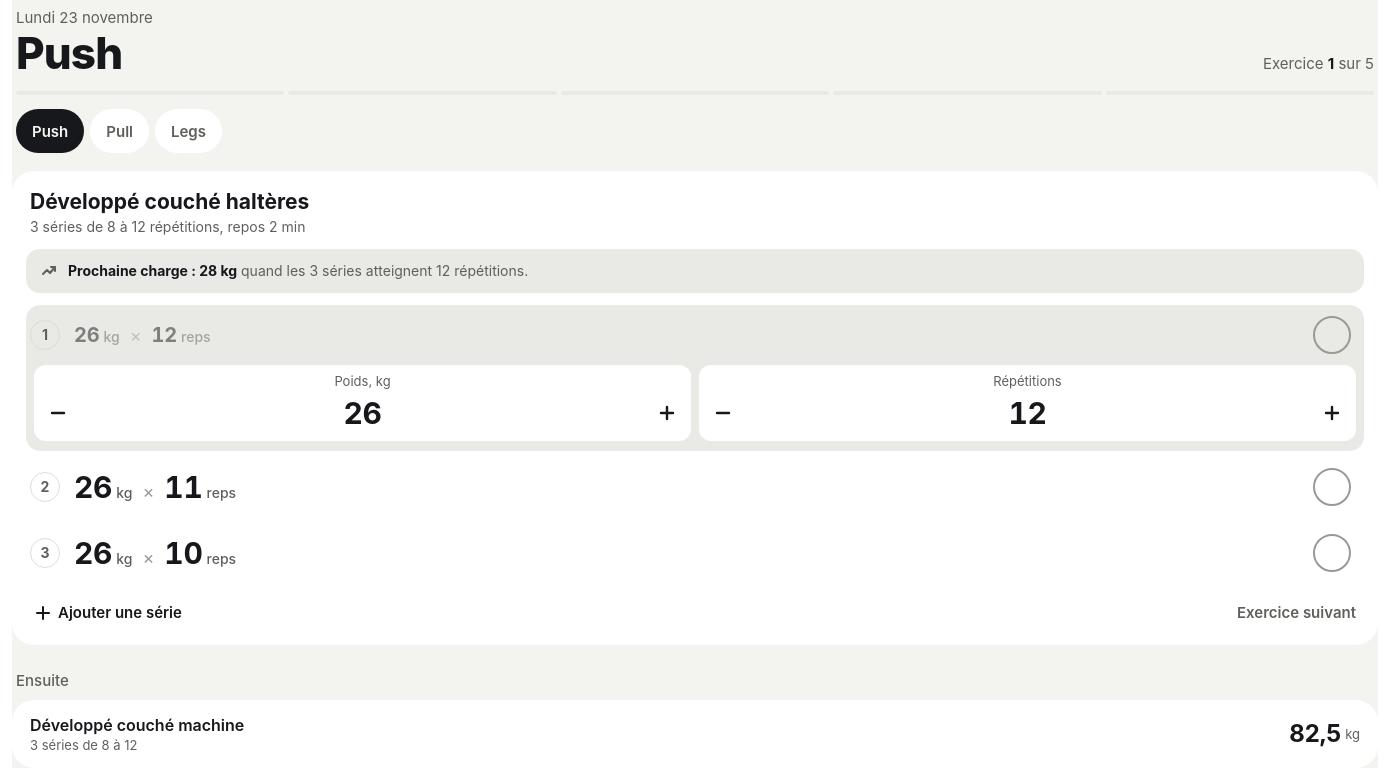
Test: SessionPage › un échec d’enregistrement affiche un message persistant et resynchronise depuis la base
Click the button named "Valider la série 1" at {"x": 1332, "y": 335}, box [1306, 309, 1358, 361]
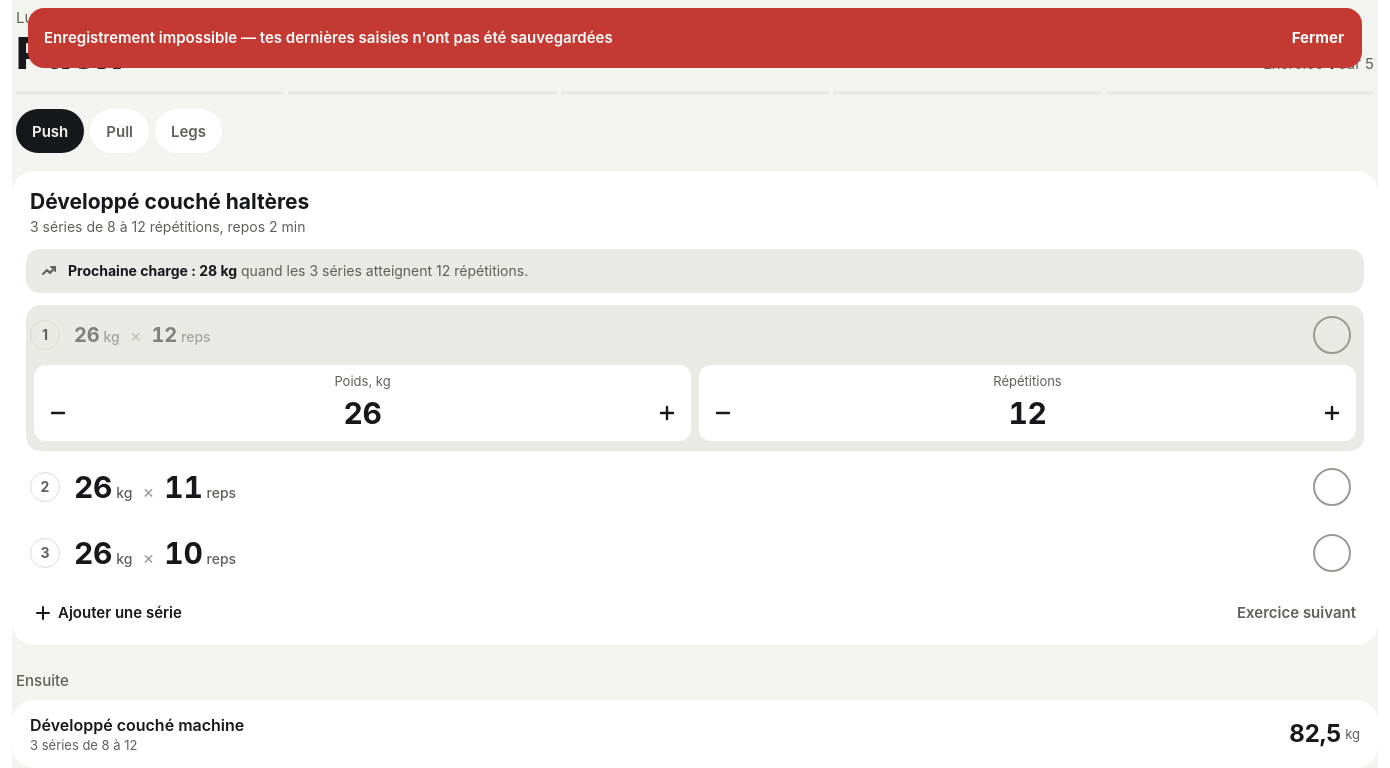
Check: the number of buttons "26 kg × 12 reps" is 3, box [64, 307, 1302, 363]; [64, 459, 1302, 515]; [64, 525, 1302, 581]
Check: the message shows "Enregistrement impossible — tes dernières saisies n'ont pas été sauvegardées", box [44, 28, 613, 47]
Check: the message is shown, box [28, 8, 1362, 68]
Click the button "Fermer" at {"x": 1318, "y": 38}, box [1280, 16, 1356, 60]
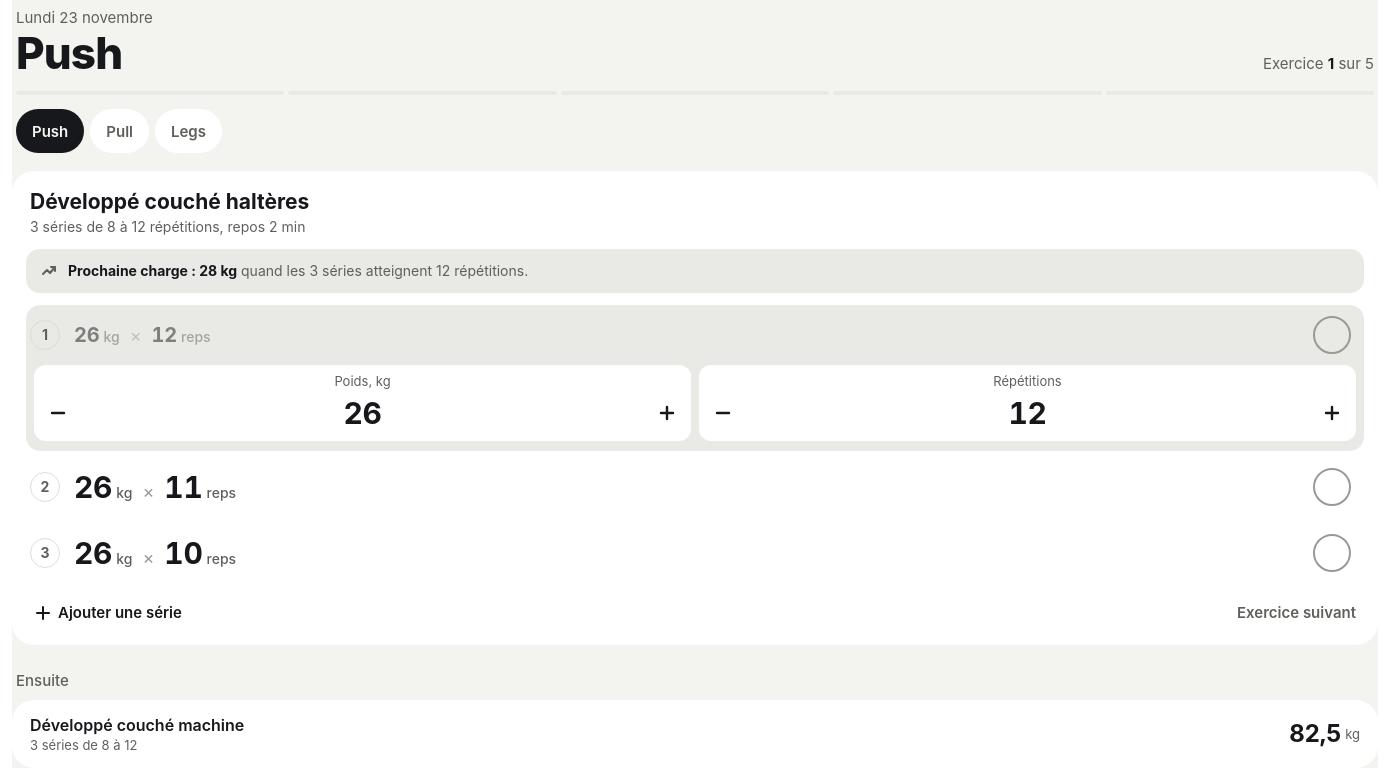
Check: the message is gone
